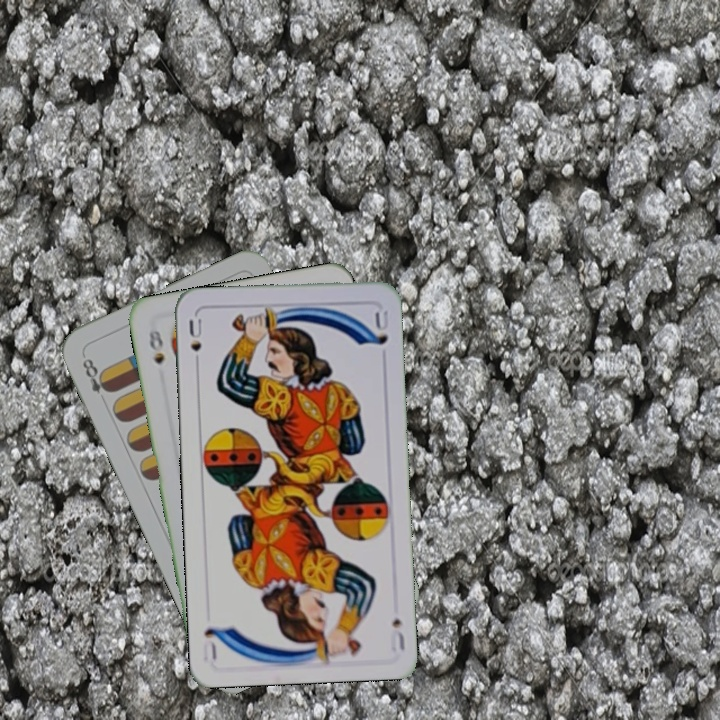E8: (78, 354, 114, 396)
S8: (145, 322, 169, 367)
SU: (185, 314, 204, 372), (386, 614, 408, 653)
